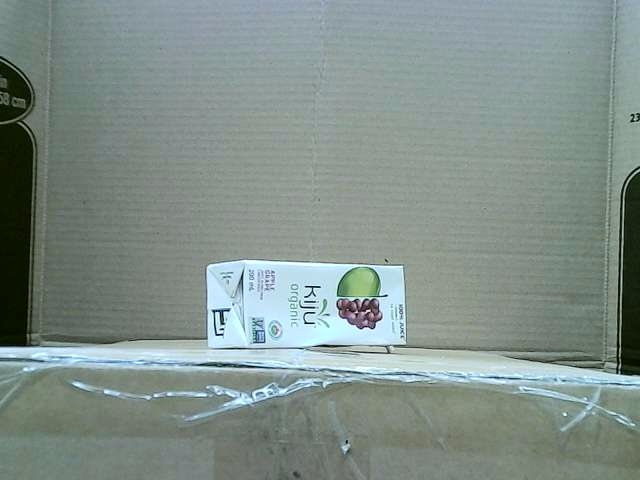JuiceBox: (207, 259, 408, 353)
